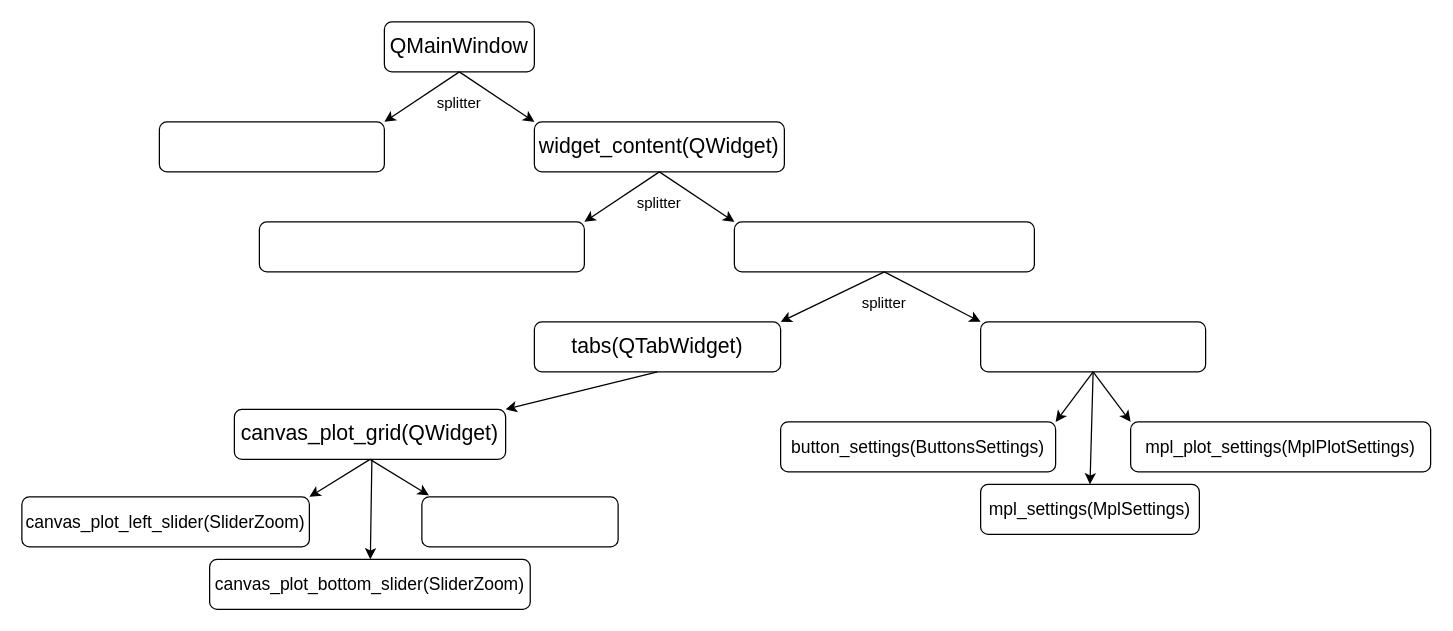
This 1453x631 diagram has some shape labels left out. The shapes that lost their labels are listed below. From the top down, each one's centre as x and y in pixels, then its label:
the point at 271,146: files_menu(FilesMenu)
the point at 421,246: output_console(ConsoleOutput)
the point at 883,246: canvas_workspace(QWidget)
the point at 1092,346: controls(QWidget)
the point at 519,521: canvas_plot(QWidget)
